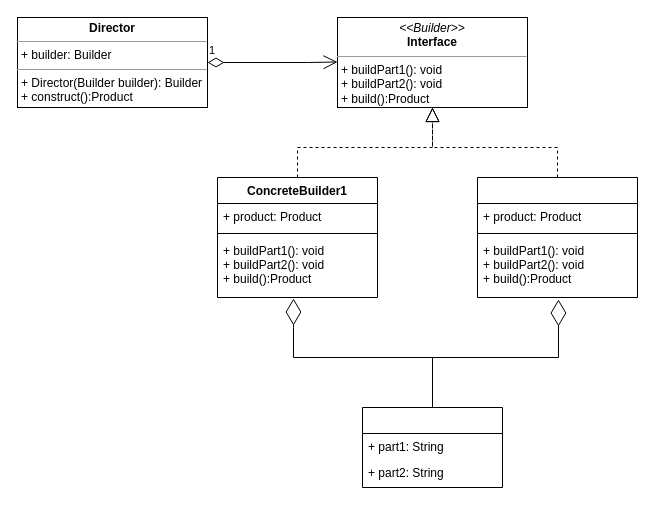
This 655x508 diagram has some shape labels left out. The shapes that lost their labels are listed below. From the top down, each one's box as (x1, y1, x2, y2) in pixels, then its label:
(476, 176, 638, 298): ConcreteBuilder2
(362, 406, 502, 488): Product
